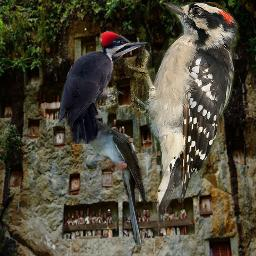Cuckoo: (72, 120, 148, 245)
Woodpecker: (128, 2, 241, 232), (54, 30, 150, 144)
